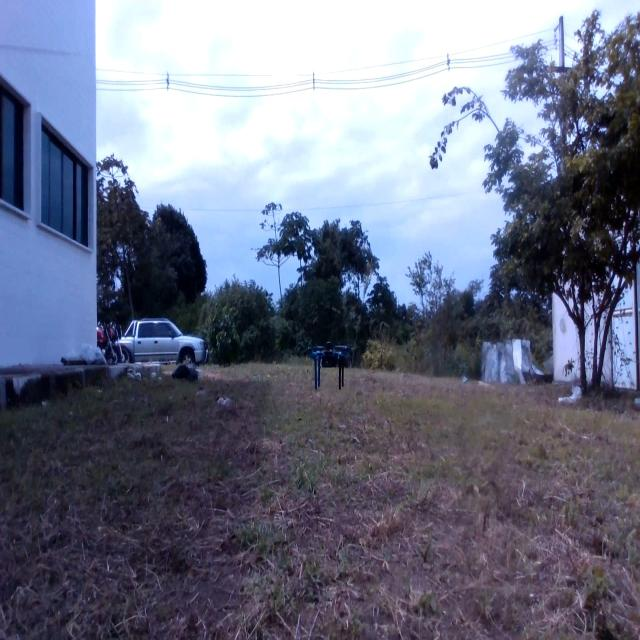-uav-: (304, 307, 354, 413)
